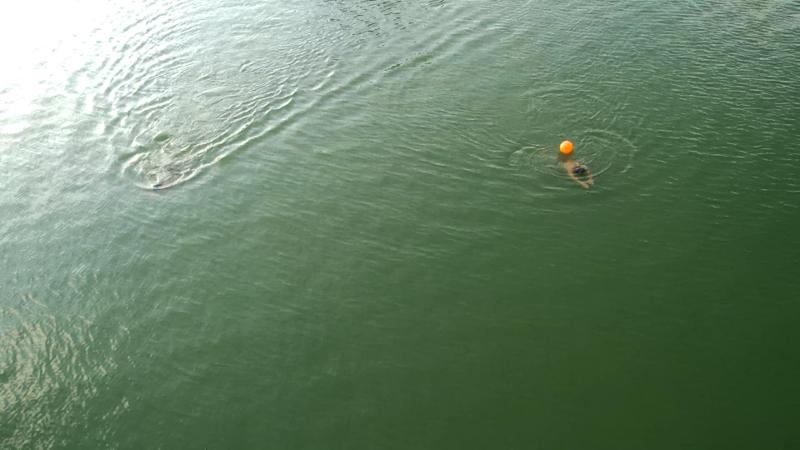swimmers: (561, 157, 595, 190)
